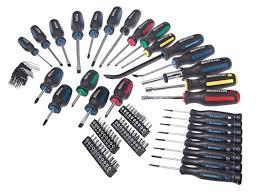screwdriver: (139, 56, 233, 85), (97, 7, 141, 66), (105, 17, 154, 66), (147, 162, 242, 184), (120, 31, 175, 68), (89, 4, 121, 66), (143, 73, 237, 92), (138, 88, 240, 105), (150, 153, 242, 171), (149, 144, 241, 161), (28, 22, 63, 65), (41, 83, 73, 126), (76, 85, 108, 127), (155, 136, 242, 151), (15, 34, 53, 67), (158, 129, 242, 143), (47, 18, 71, 66), (104, 77, 132, 117), (159, 121, 242, 134), (32, 67, 61, 104), (70, 68, 98, 106), (162, 107, 242, 119), (164, 114, 242, 126), (69, 9, 83, 74), (85, 10, 103, 58)
